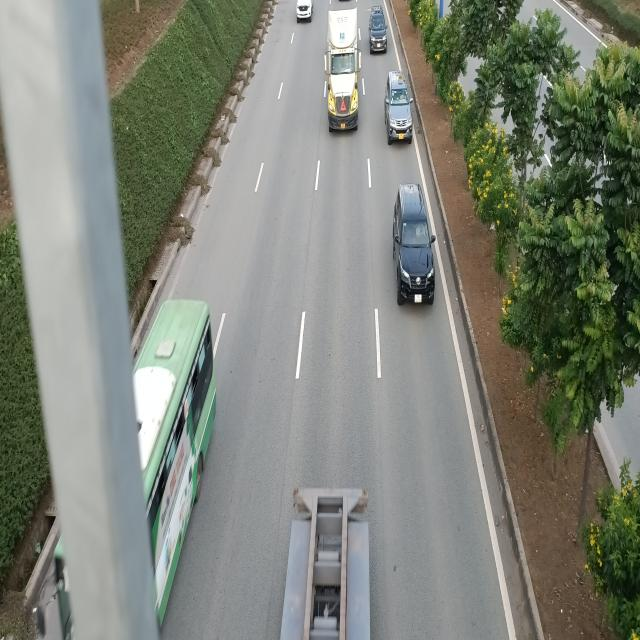car: (394, 182, 438, 304), (382, 70, 412, 142), (367, 4, 387, 53), (296, 0, 314, 21)
container: (328, 8, 363, 132)
